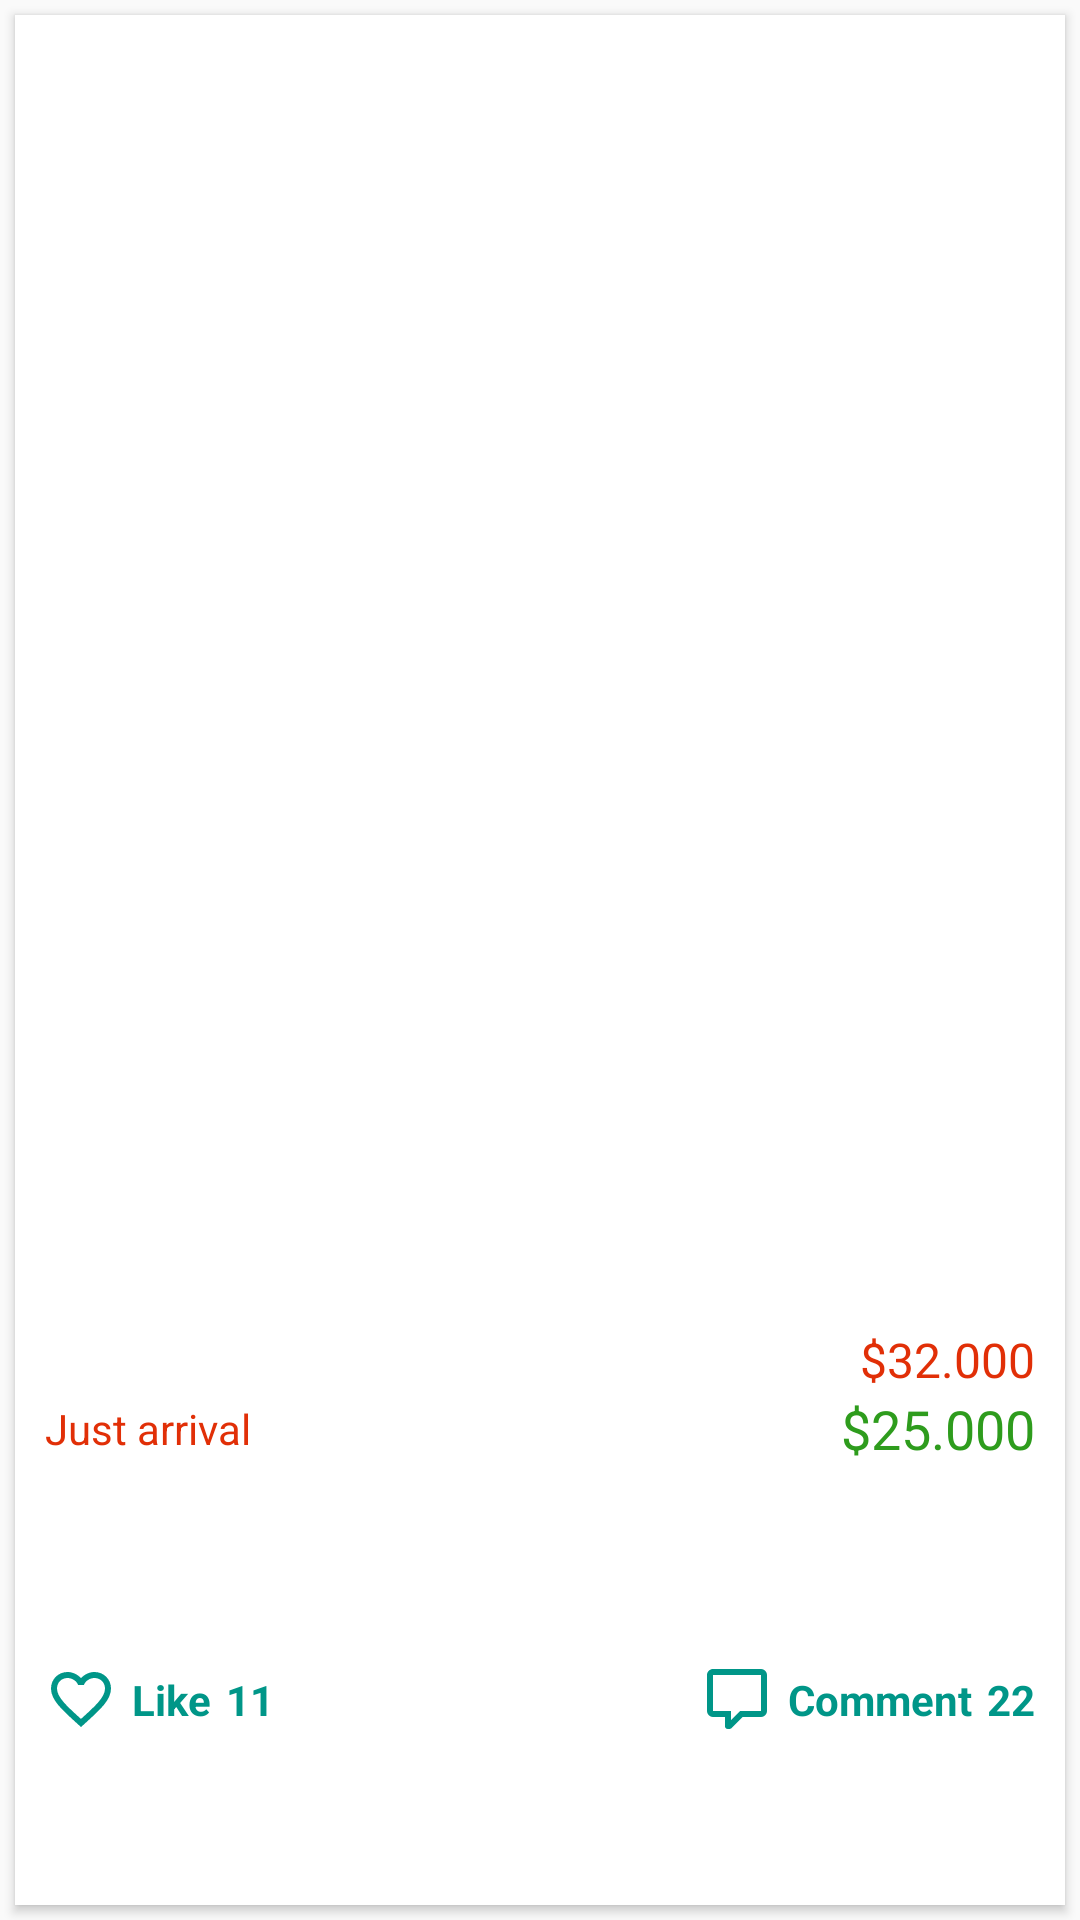

Where icons sit on this 1080 × 1920 app screen, as [left=x1, top=y1, right=x2, bottom=y2]:
heart: [left=51, top=1672, right=111, bottom=1727]
